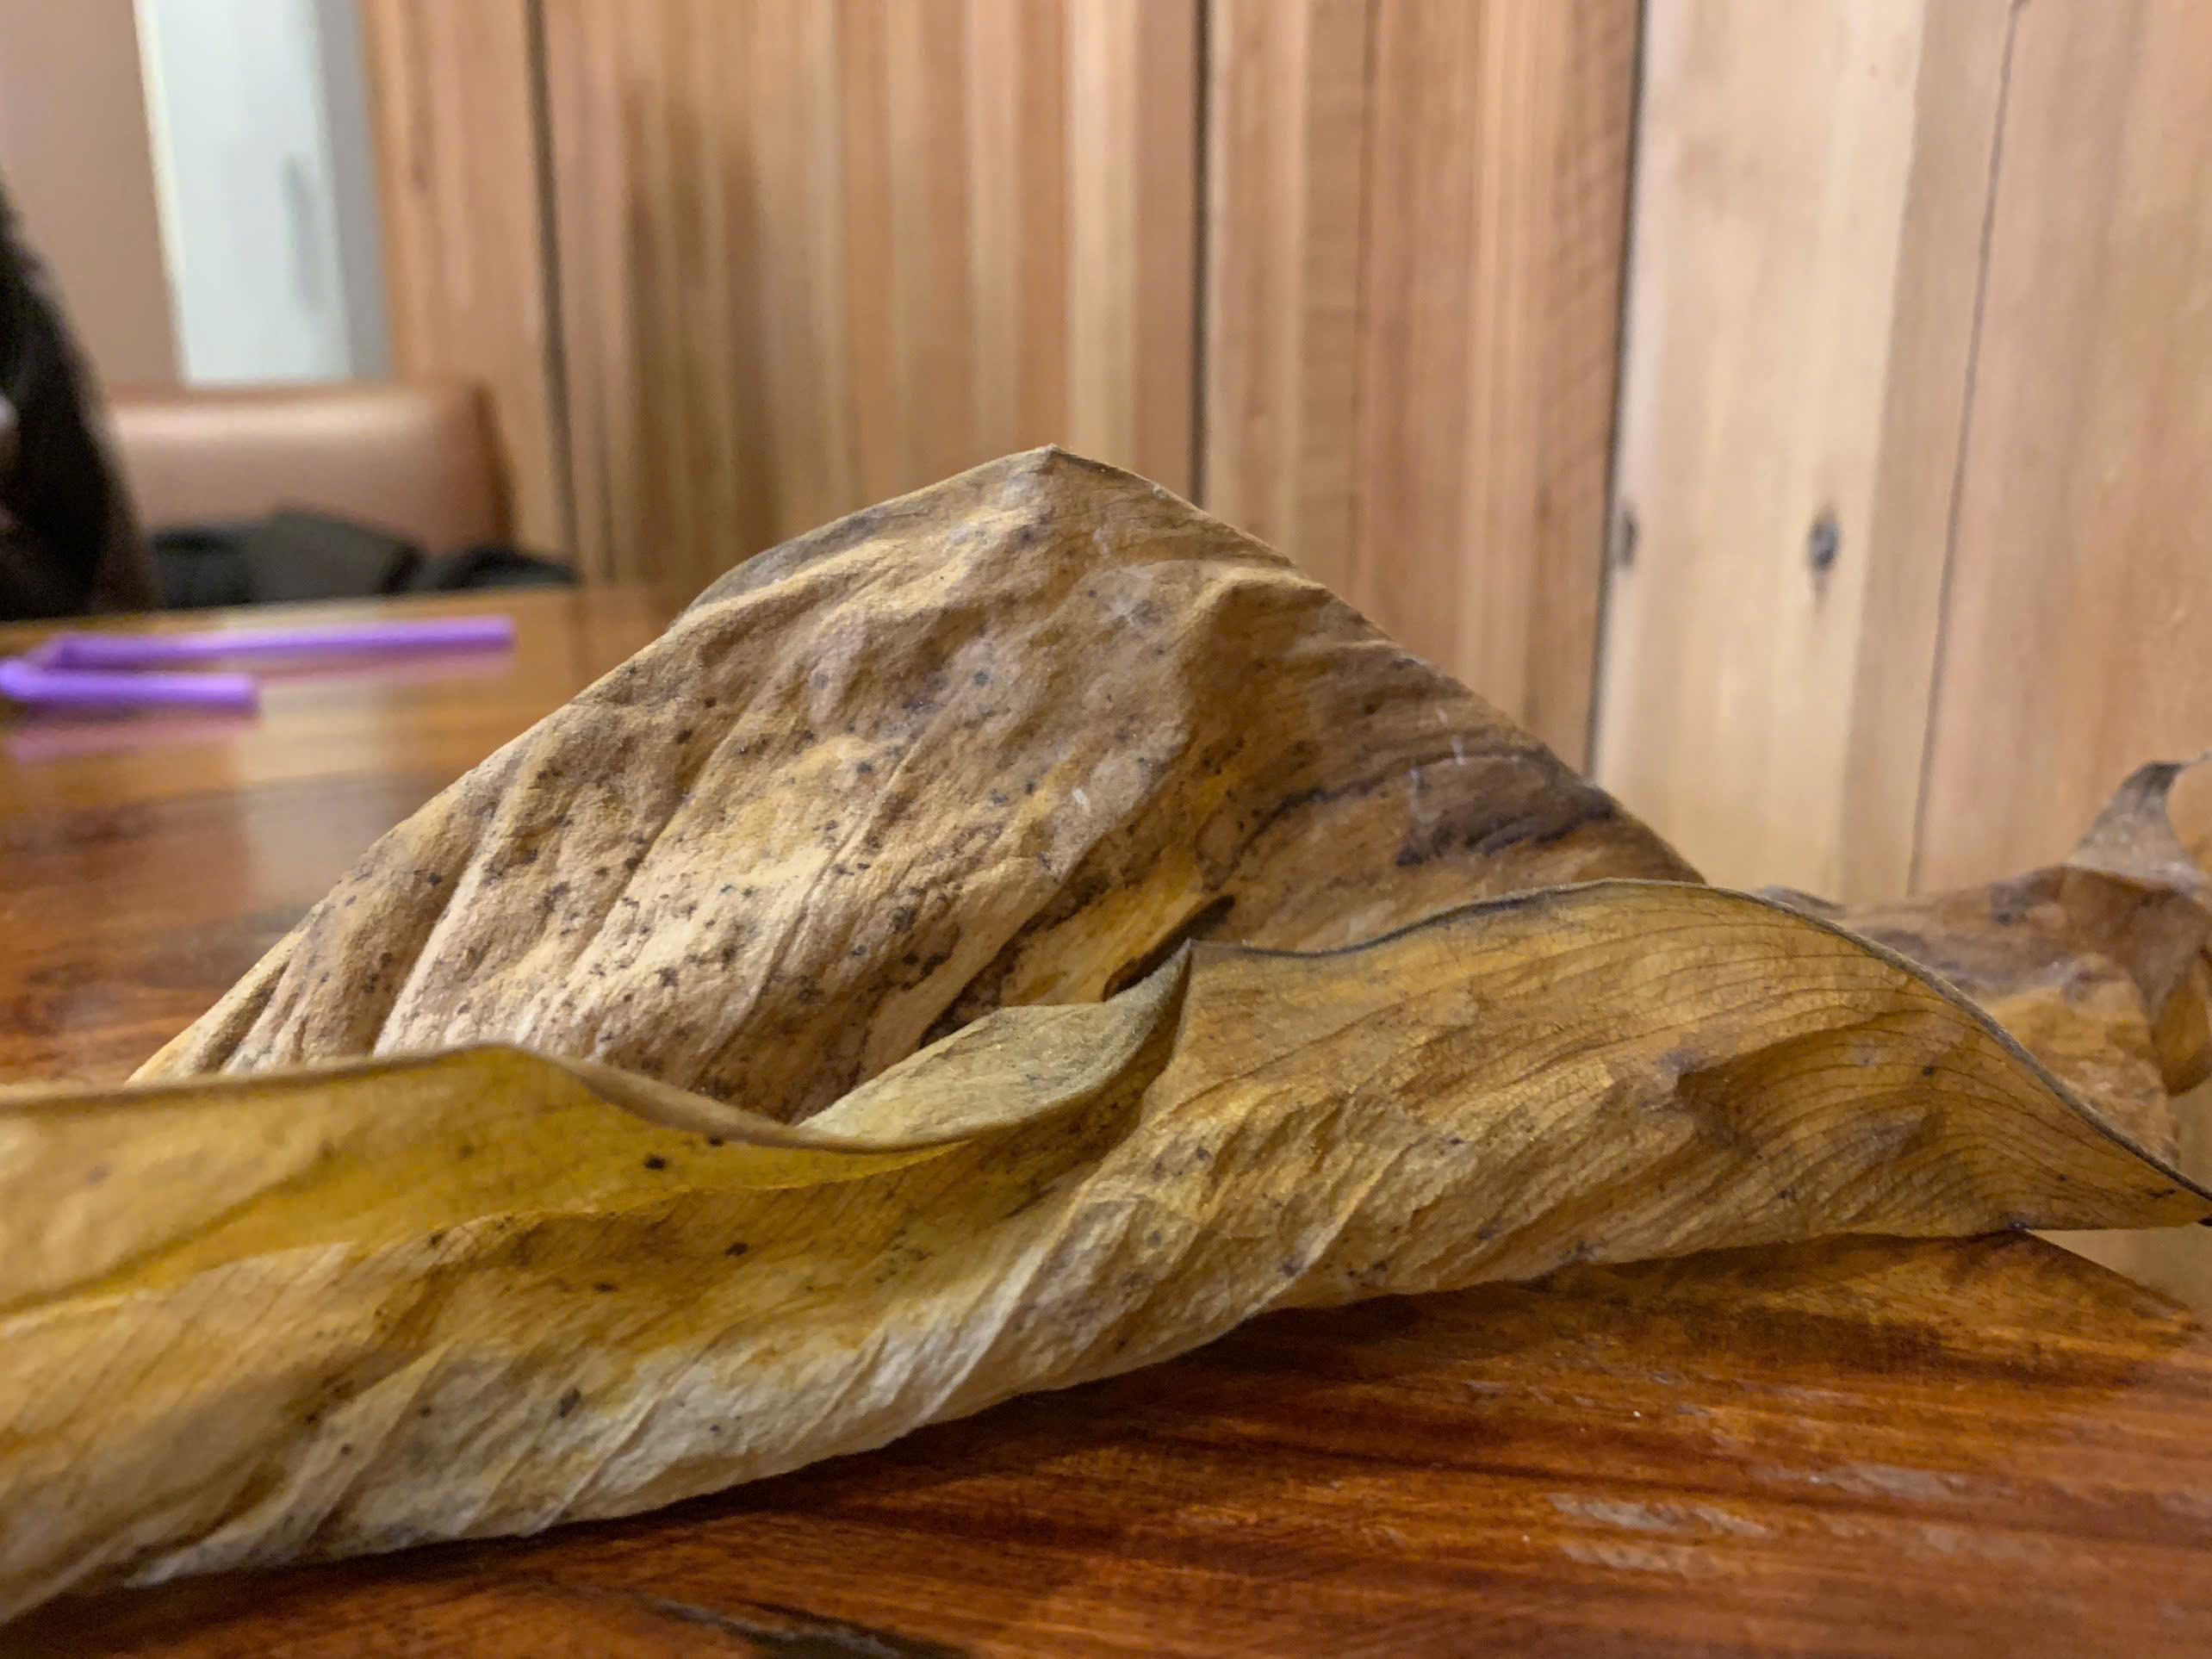Huu co: (5, 464, 2212, 1532)
